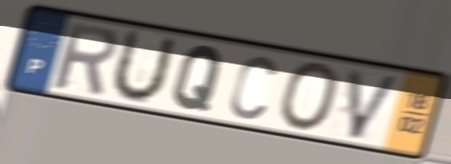C: (227, 52, 280, 122)
O: (276, 60, 342, 134)
Q: (170, 43, 226, 114)
R: (51, 19, 120, 97)
U: (106, 27, 180, 106)
V: (346, 66, 405, 143)
